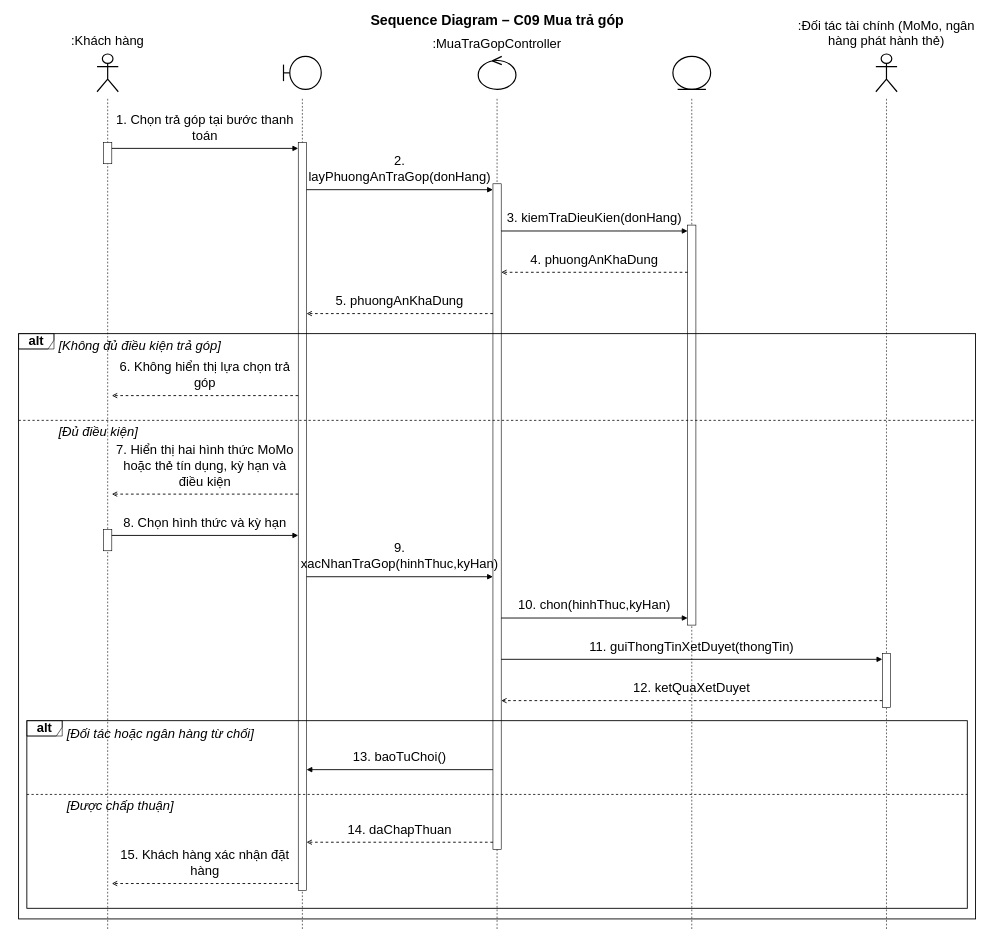
This 994x942 diagram has some shape labels left out. Each missing label, with the centre of its shape:
":KeHoachTraGop" goes at point (691, 72).
":MuaTraGopPage" goes at point (302, 72).
